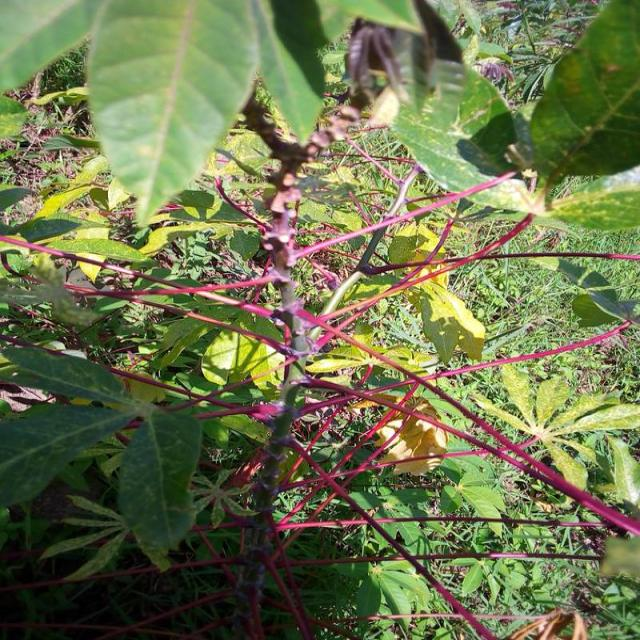cassava leaf: (87, 0, 261, 228), (530, 0, 640, 194), (390, 56, 524, 211), (118, 404, 204, 571)
